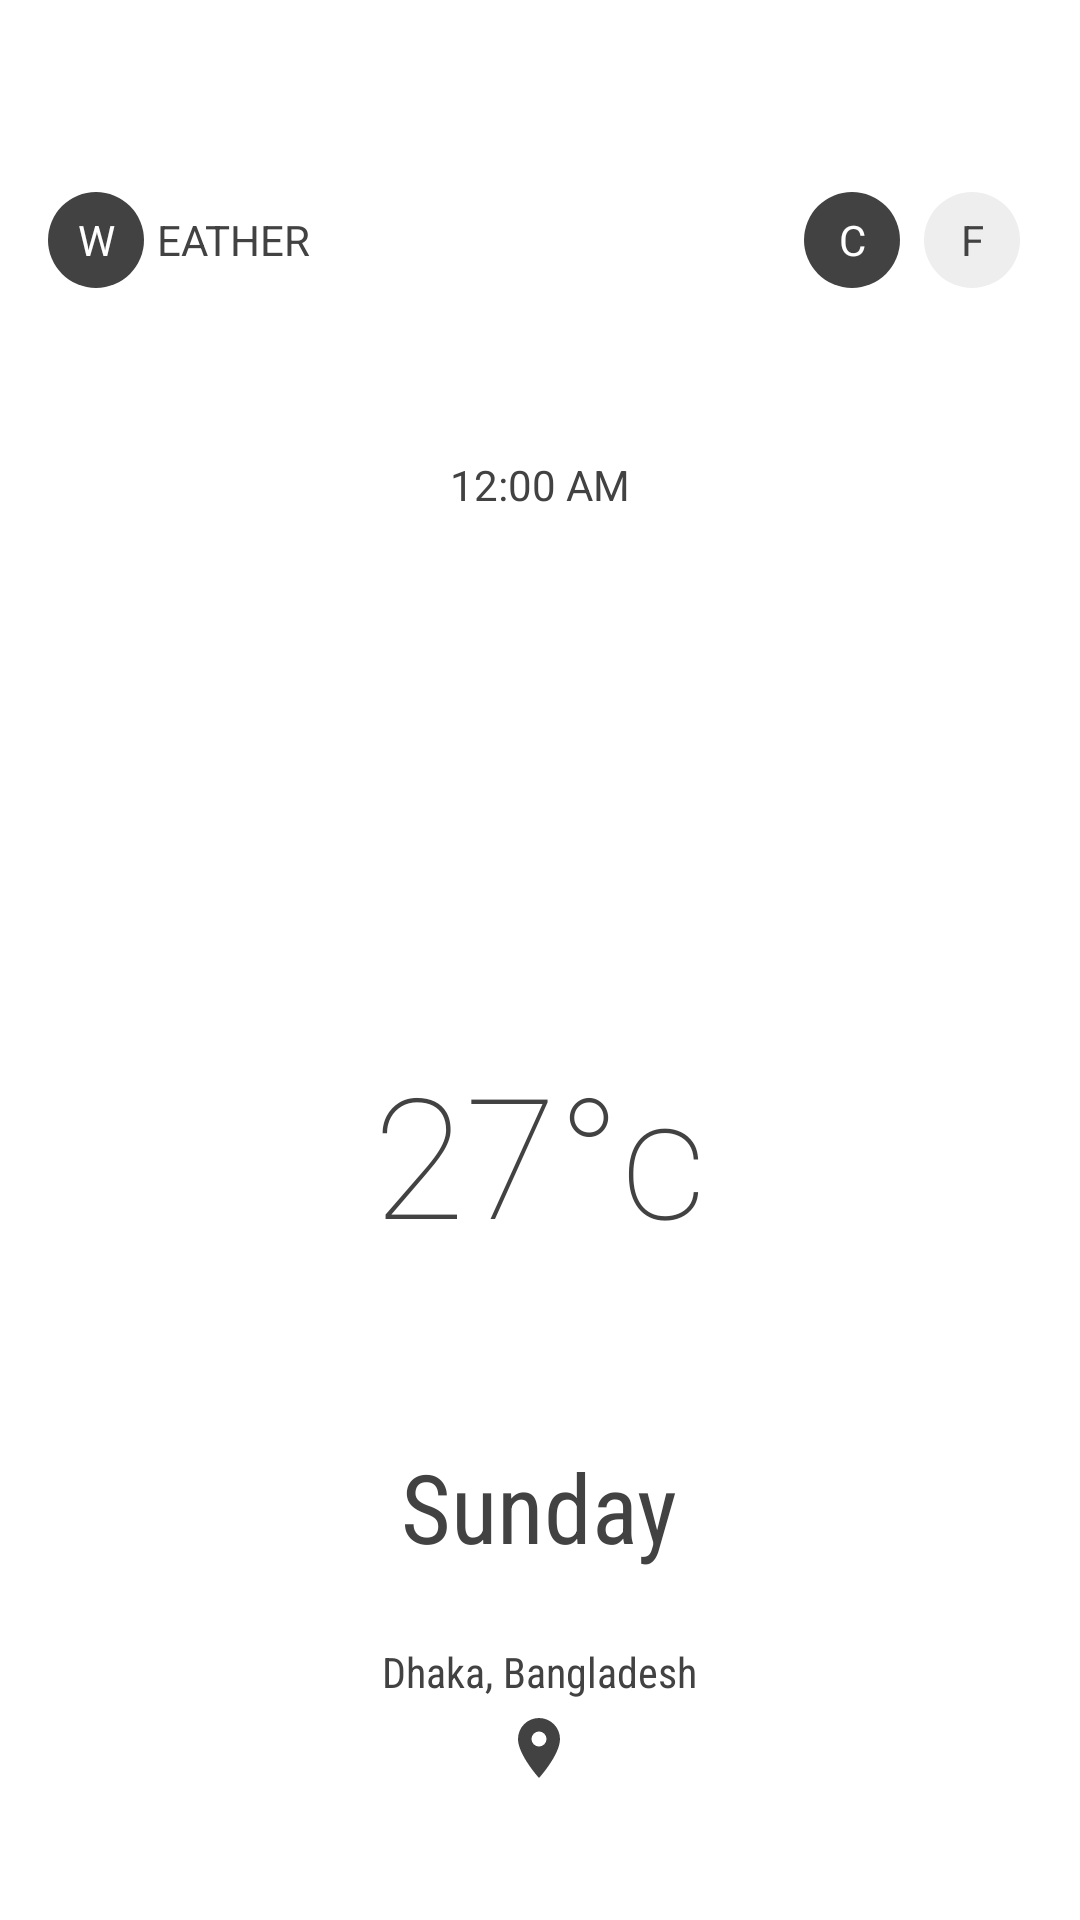

Icons on this 1080x1920 Android screen, each with the point to tap as (x=x, y=y):
map marker: (x=539, y=1748)
